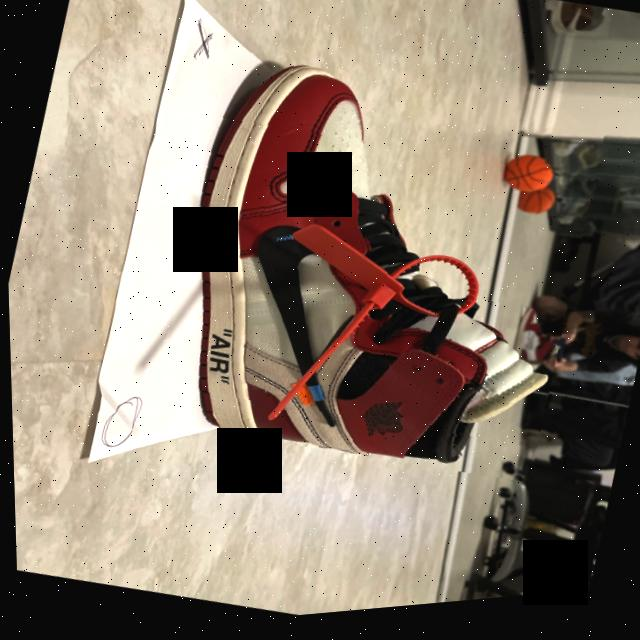shoe: (137, 27, 616, 519)
